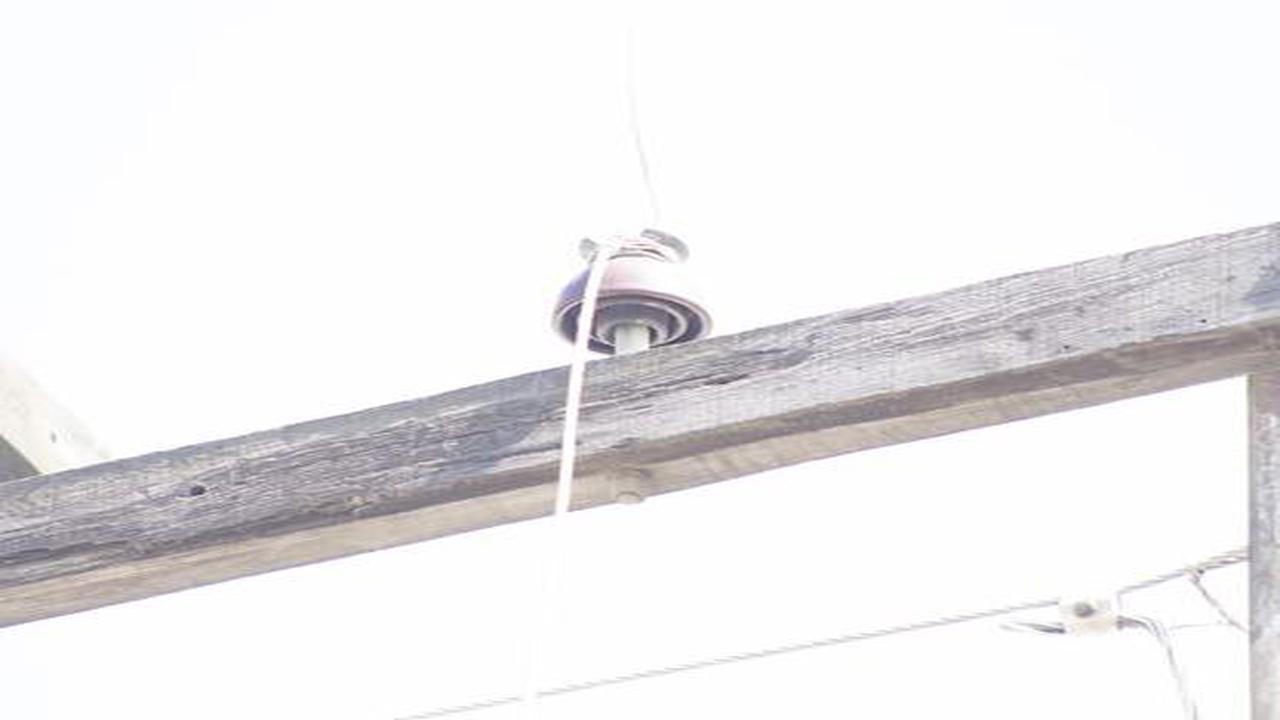insulator_pin: (553, 219, 722, 350)
